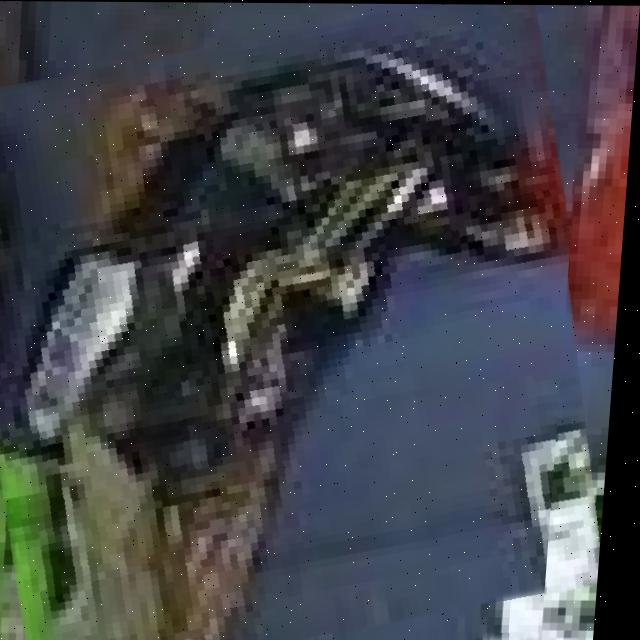can: (0, 10, 573, 640)
